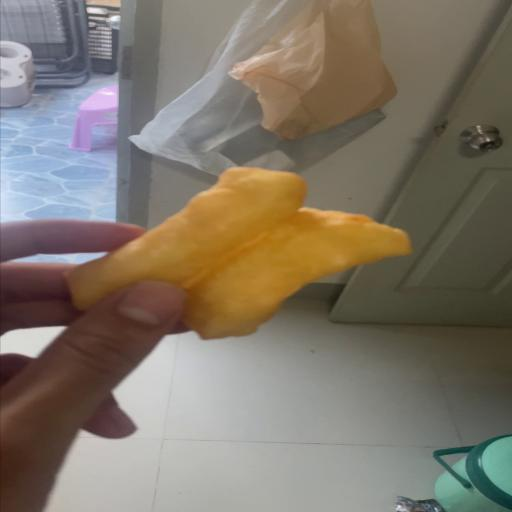street_golden_good: (68, 167, 410, 339)
